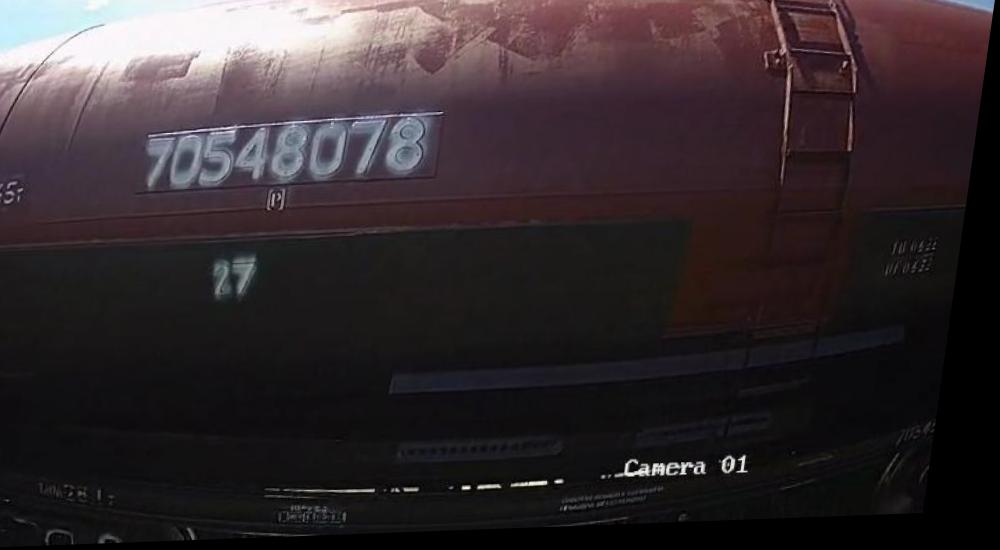Wagon-number: (141, 115, 438, 196)
